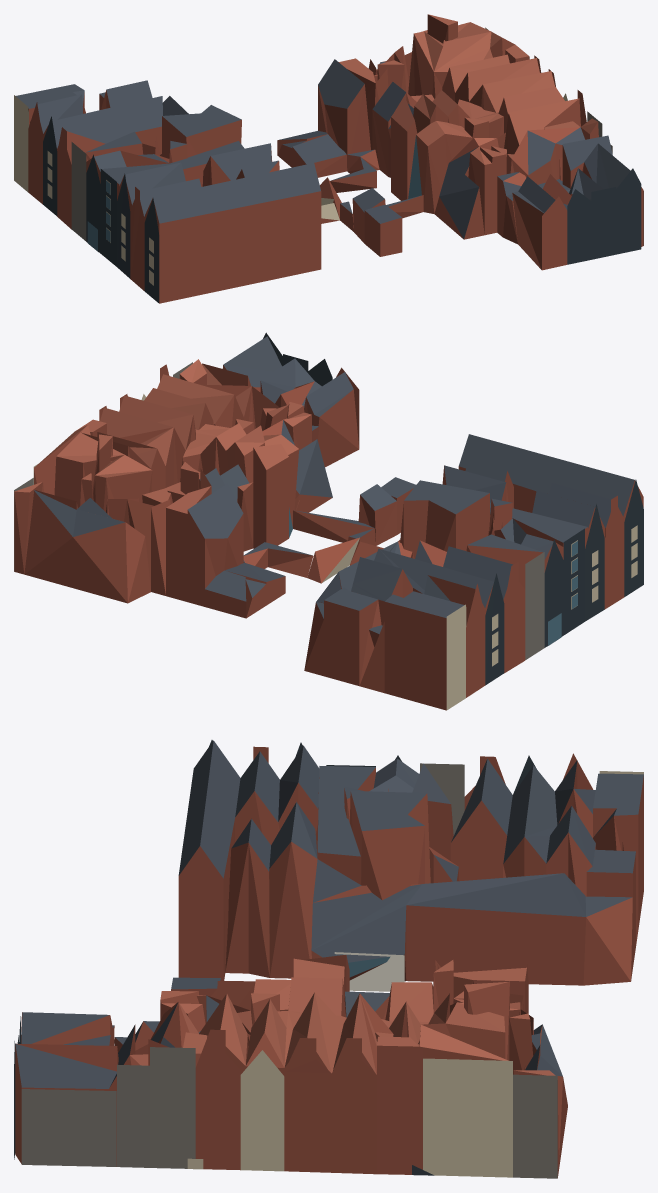
File: pulitzer-amsterdam.lod2.glb
3 views of the same model, one above another, from view 1: azimuth 30°, elevation 25°; view 2: azimuth 150°, elevation 25°; view 3: azimuth 270°, elevation 25° (orthographic). The views are drawn at different scales.
Visible parts, largest first — view 1: lod2; view 2: lod2; view 3: lod2.
Part boxes in pixels (x1=…): lod2: x1=14, y1=14, x2=643, y2=303; lod2: x1=14, y1=332, x2=643, y2=710; lod2: x1=14, y1=740, x2=643, y2=1178.
Size of the model in its own units: 89.18 by 21.67 by 79.27.
